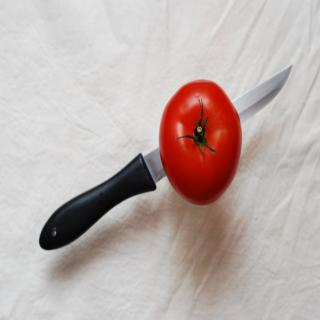tomato: (158, 79, 245, 198)
